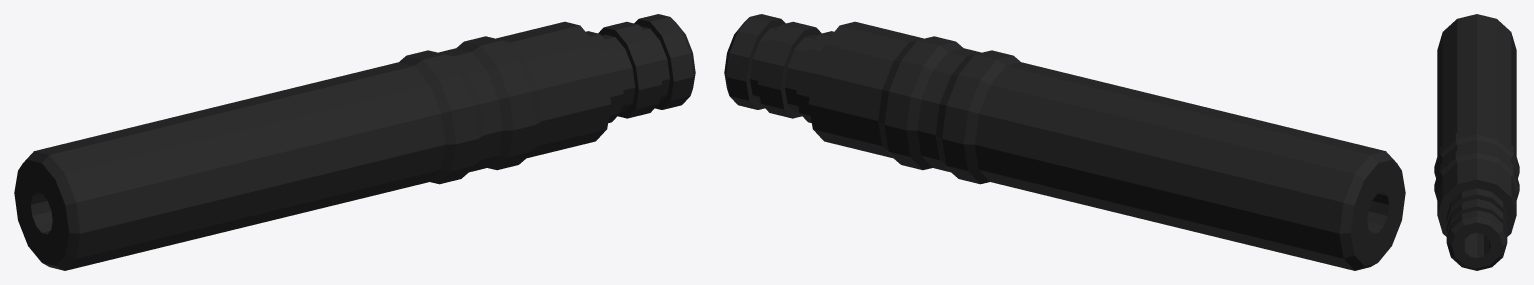
Rendered from MGP7_Attachment_SuppressorV1.glb.
3 views of the same model, side by side, from view 1: azimuth 30°, elevation 25°; view 2: azimuth 150°, elevation 25°; view 3: azimuth 270°, elevation 25° (orthographic). The views are drawn at different scales.
Parts seen in each view (by area): view 1: MGP7_Attachment_Suppressor_V1; view 2: MGP7_Attachment_Suppressor_V1; view 3: MGP7_Attachment_Suppressor_V1.
Boxes of the visible parts, box(x1,y1,x2,y2) form: MGP7_Attachment_Suppressor_V1: box(14, 14, 695, 270); MGP7_Attachment_Suppressor_V1: box(724, 14, 1405, 270); MGP7_Attachment_Suppressor_V1: box(1434, 14, 1519, 270).
Size of the model in its own units: 0.2183 by 0.0396 by 0.0396.
1 material, 1 textured.
